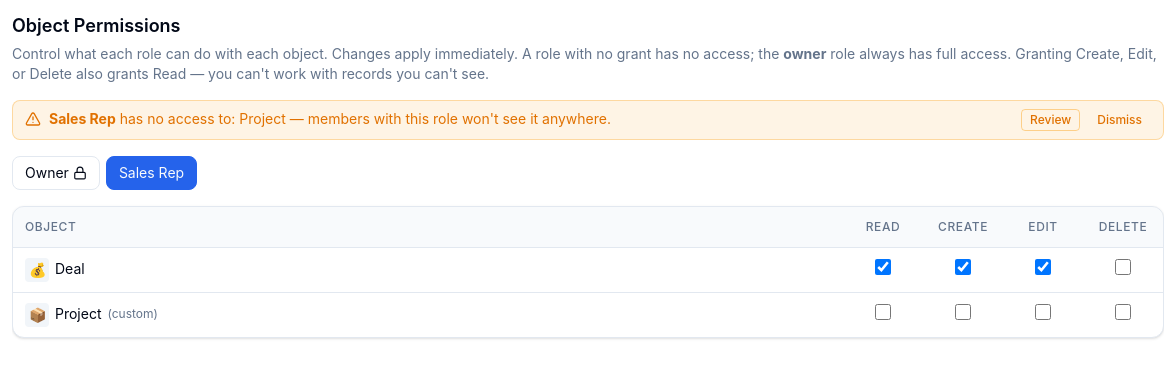
Test: PermissionsManager — role × object grid › locks the owner row — checked and not editable (owner bypasses OLS)
Expected: the text "Deal" is shown, [55, 259, 85, 276]
Click the tab "Owner" at (56, 173), box [12, 156, 100, 190]
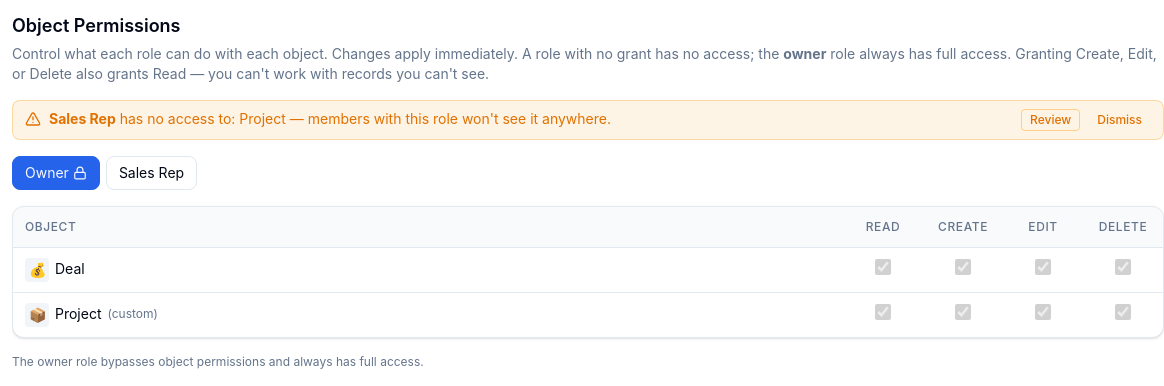
Expected: the checkbox named "Owner Read Deal" is checked, [875, 259, 891, 275]
Now the checkbox named "Owner Read Deal" is disabled, box [875, 259, 891, 275]
